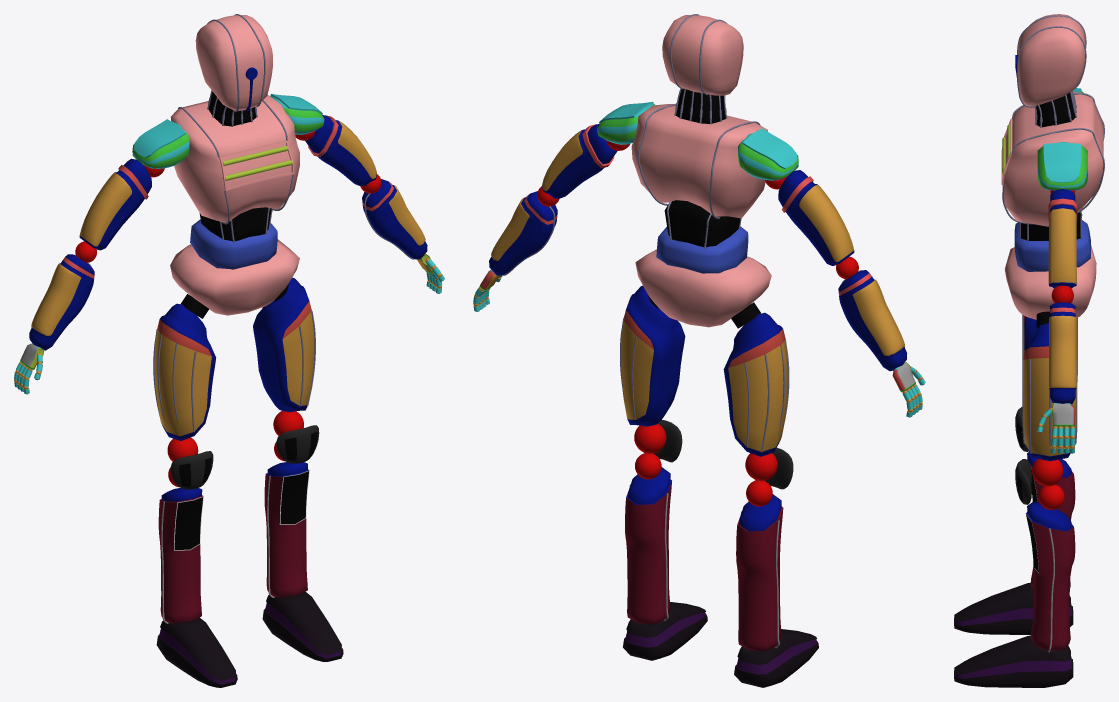
File: robot de patrouille.fbx
3 views of the same model, side by side, from view 1: azimuth 30°, elevation 25°; view 2: azimuth 150°, elevation 25°; view 3: azimuth 270°, elevation 25° (orthographic). The views are drawn at different scales.
Visible parts, largest first — view 1: Robot hp001; view 2: Robot hp001; view 3: Robot hp001.
Part boxes in pixels (x1,y1,x2,y2): Robot hp001: (14, 14, 444, 687); Robot hp001: (473, 14, 925, 687); Robot hp001: (954, 14, 1104, 687).
Bounding box in the file's own units: 276 × 391 × 84.35.
